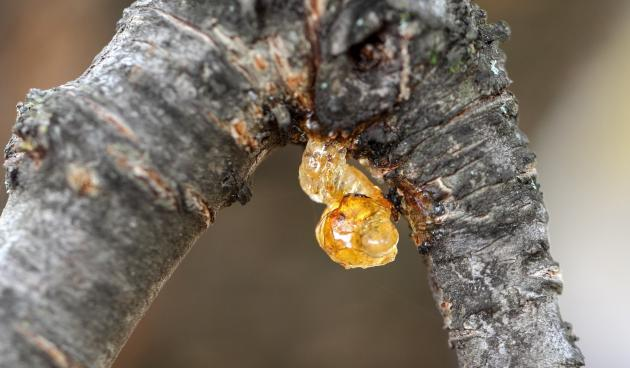gommosis: (299, 139, 398, 267)
